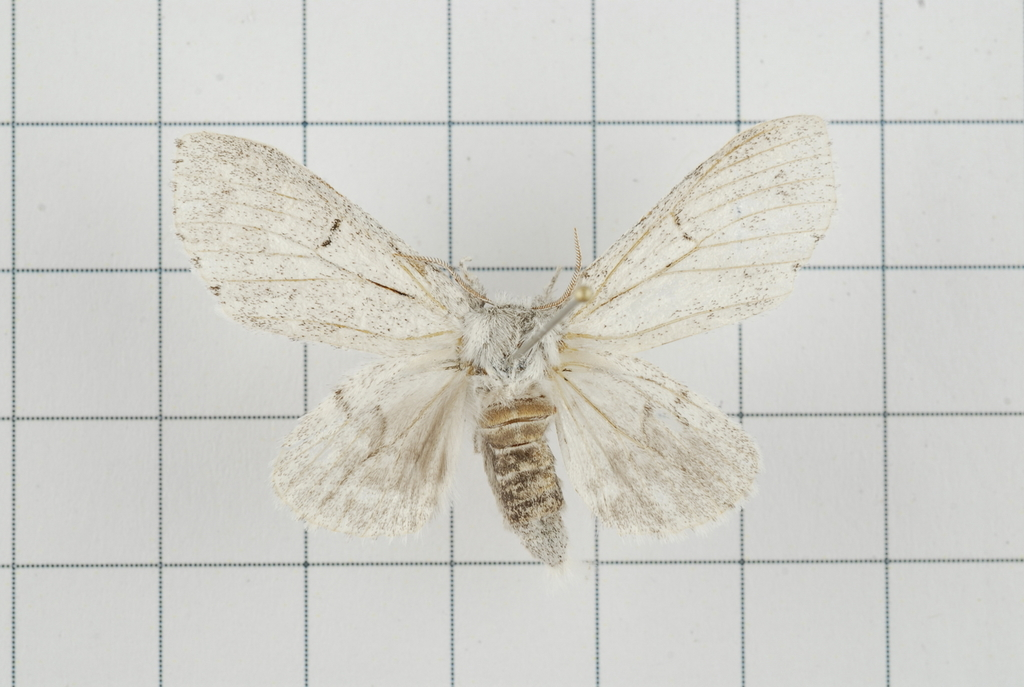Butterfly: (152, 117, 862, 569)
